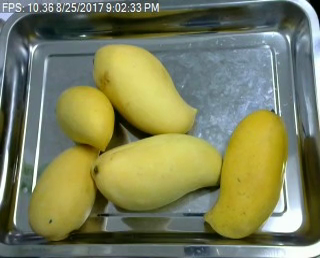Mango: (203, 107, 286, 238), (89, 133, 228, 209), (89, 45, 200, 134), (25, 144, 97, 242), (54, 78, 117, 154)
